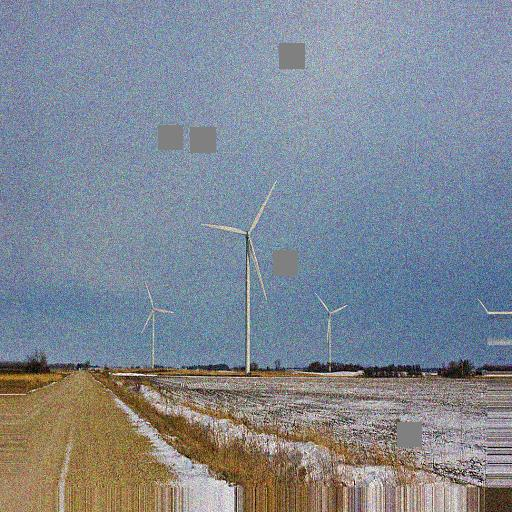wind turbine: (197, 179, 279, 364), (137, 282, 174, 366), (307, 292, 349, 364)
